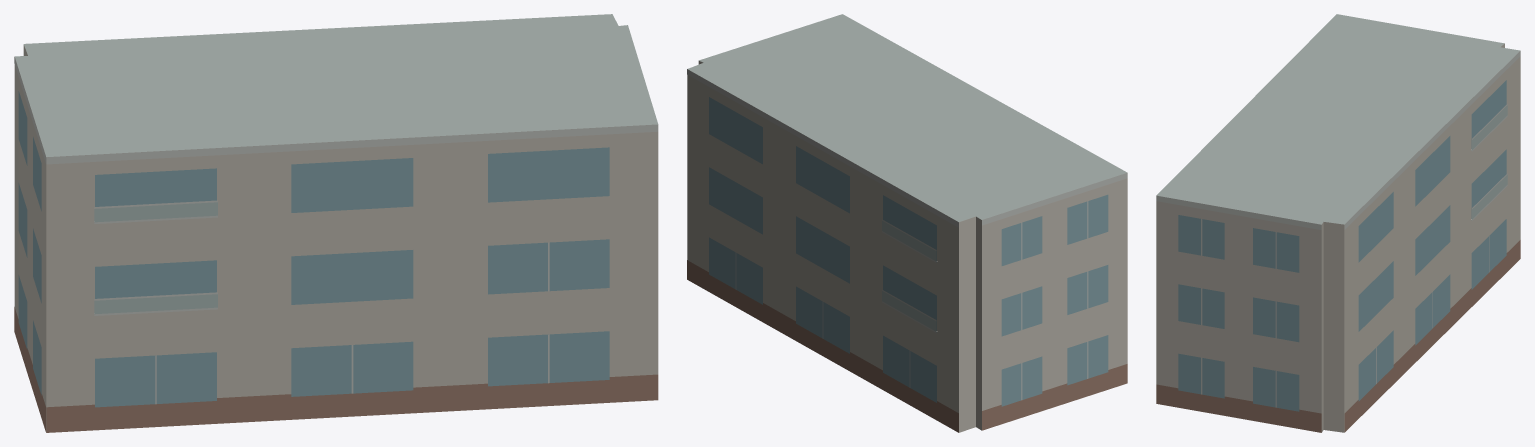
The model's file is survey-upis-32919023.glb.
The picture shows the model from 3 angles, left to right: view 1: azimuth 30°, elevation 25°; view 2: azimuth 150°, elevation 25°; view 3: azimuth 270°, elevation 25°; orthographic projection. The views are drawn at different scales.
Visible parts, largest first — view 1: survey-upis-32919023.tmp; view 2: survey-upis-32919023.tmp; view 3: survey-upis-32919023.tmp.
Part boxes in pixels (bbox=[...]): survey-upis-32919023.tmp: bbox=[14, 14, 658, 432]; survey-upis-32919023.tmp: bbox=[687, 14, 1127, 432]; survey-upis-32919023.tmp: bbox=[1156, 14, 1520, 432].
Size of the model in its own units: 19.98 by 9.2 by 14.6.
